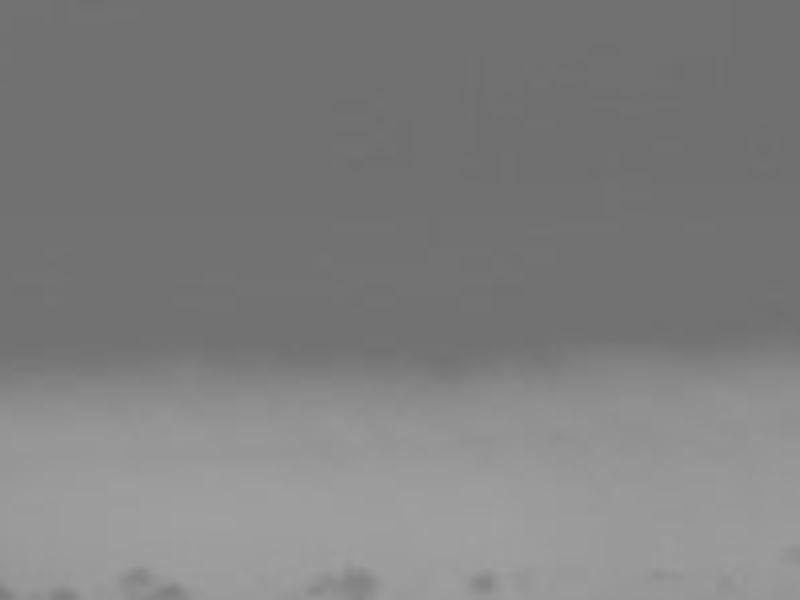defect: (339, 561, 385, 600), (704, 566, 751, 600), (461, 565, 503, 597), (306, 570, 340, 597), (153, 583, 191, 600), (123, 563, 155, 583), (49, 588, 81, 600), (784, 538, 800, 562)
